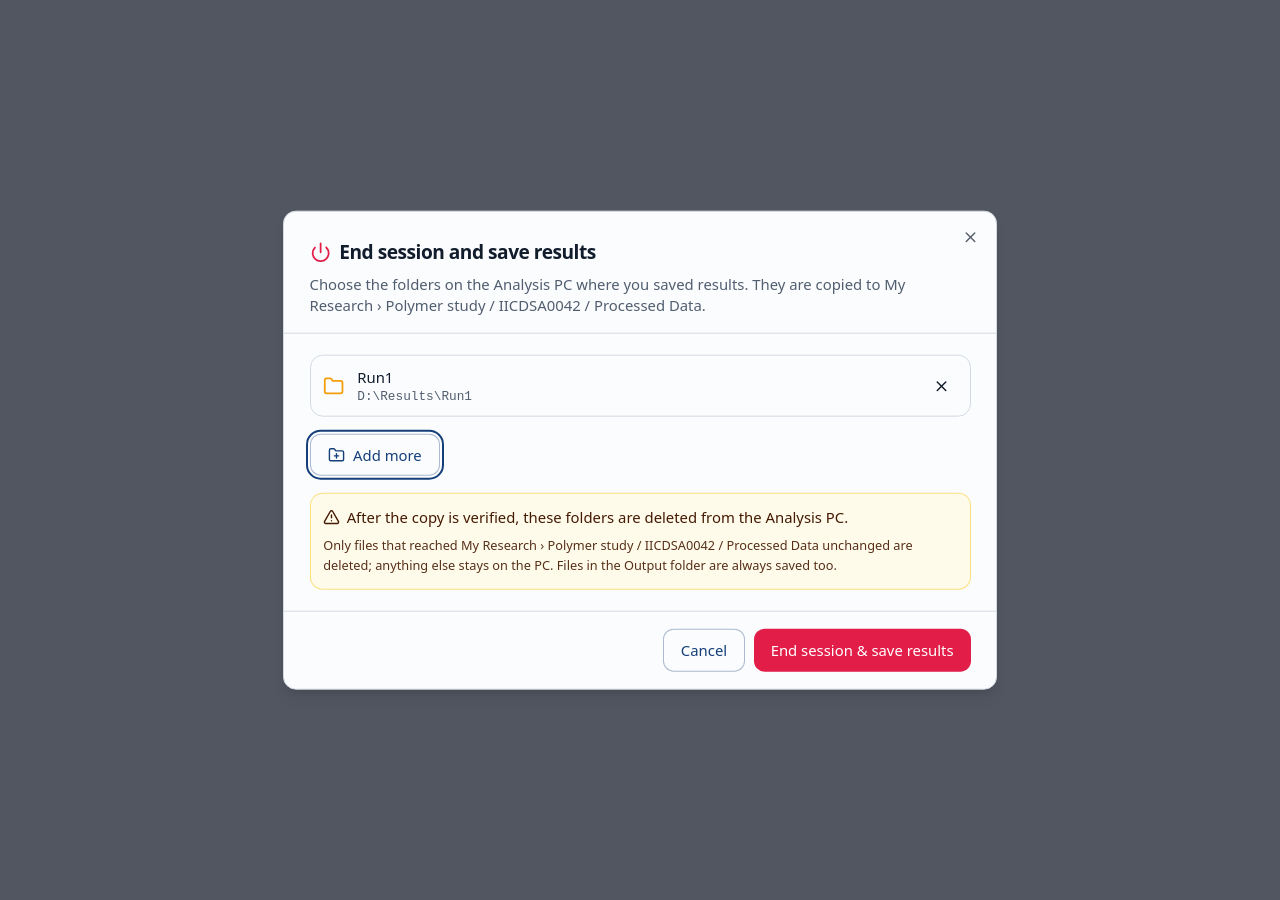
Test: EndSessionDialog › starts from folders chosen earlier and merges a chosen parent
Expected: the list with test id "chosen-folders" shows "D:\\Results\\Run1", [357,389,472,404]
Click the button "Add more". click: (375, 455)
box: [310,434,440,476]
Wait 1100 ms
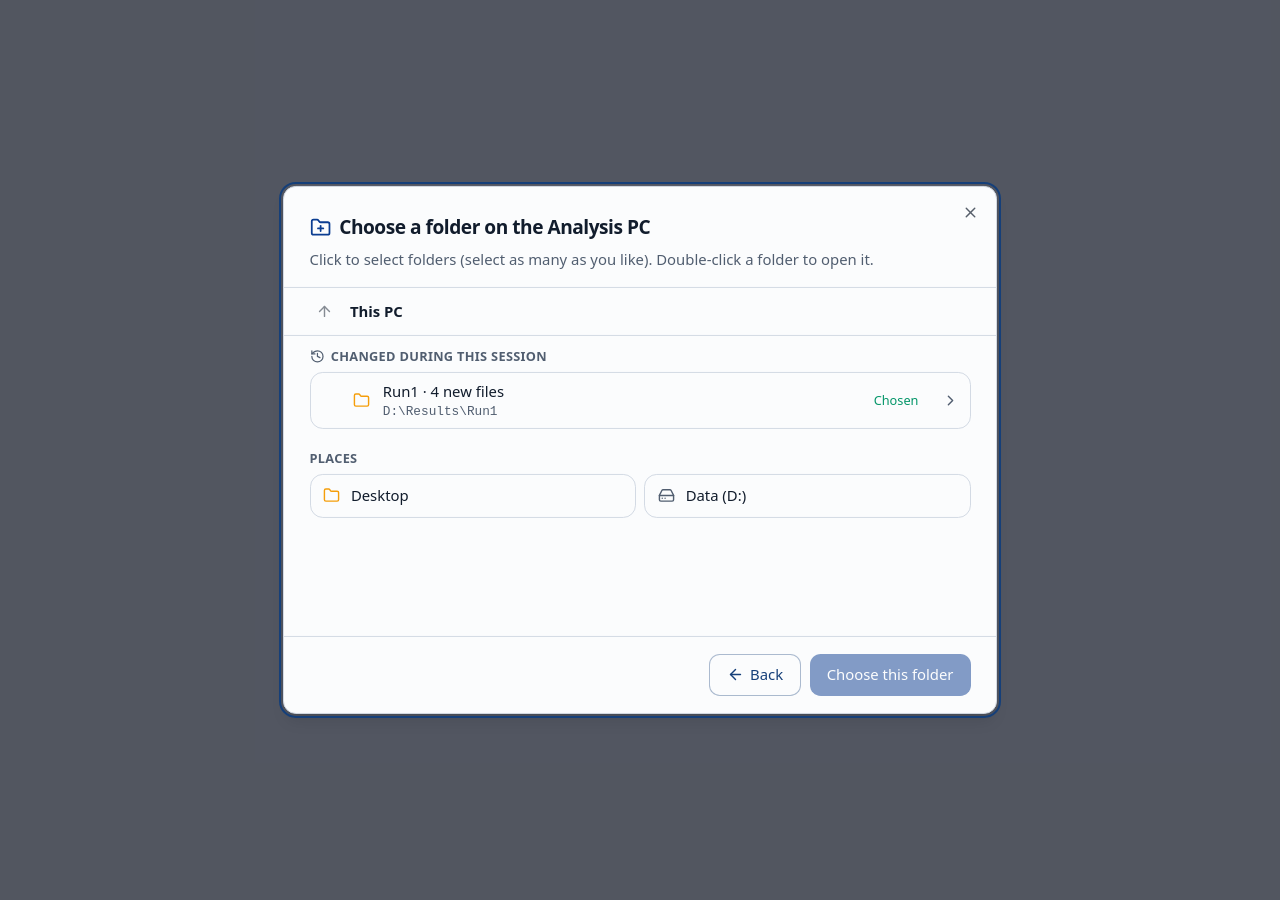
Result: the element with test id "folder-browser" shows "Places" at [310,449,358,467]
Click the button "Data (D:)". click: (716, 495)
box: [644,474,971,518]
Wait 1100 ms
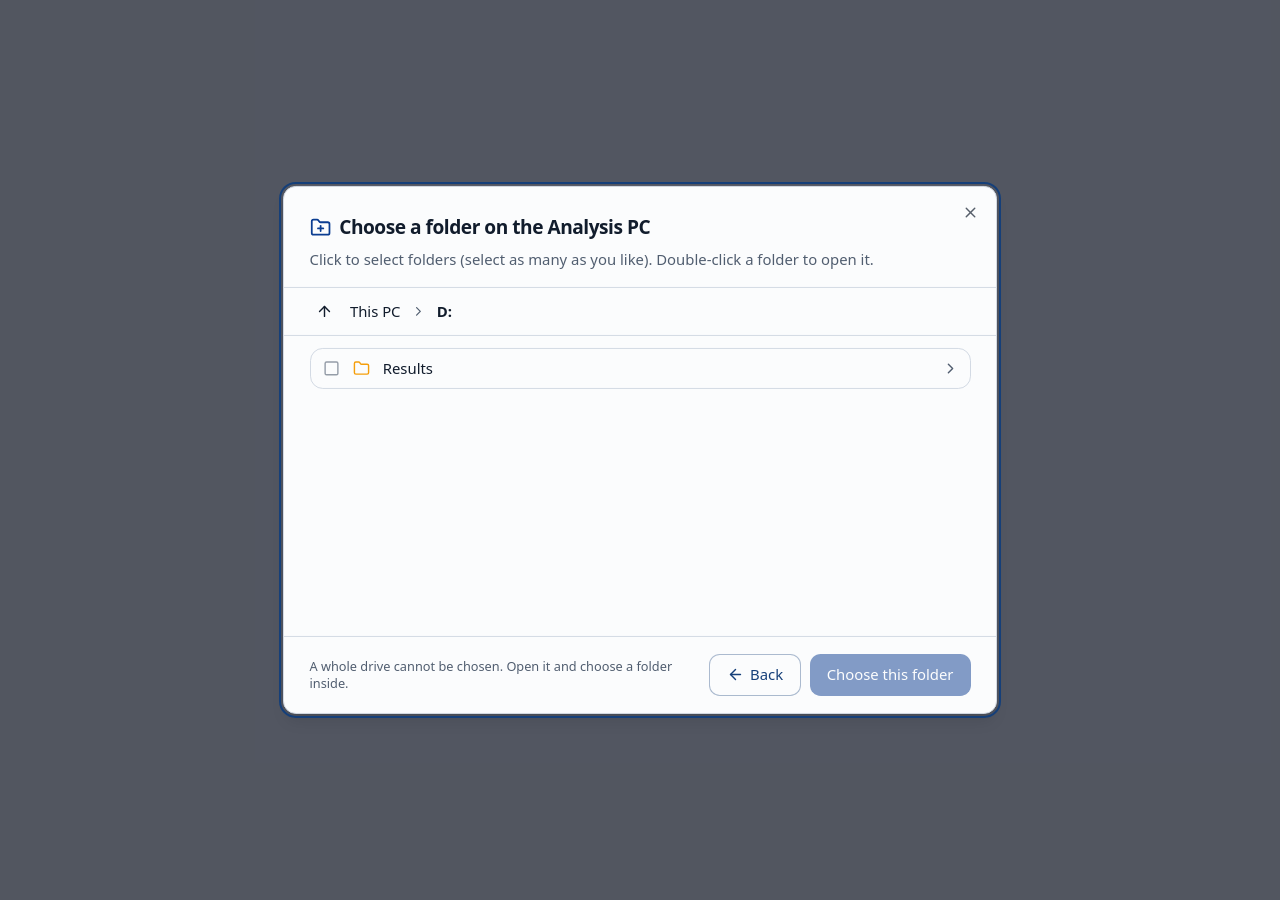
Result: the element with test id "folder-browser" reads "Results"
Double-click the option "Results" at (408, 368), box [310,349,931,388]
Wait 1100 ms
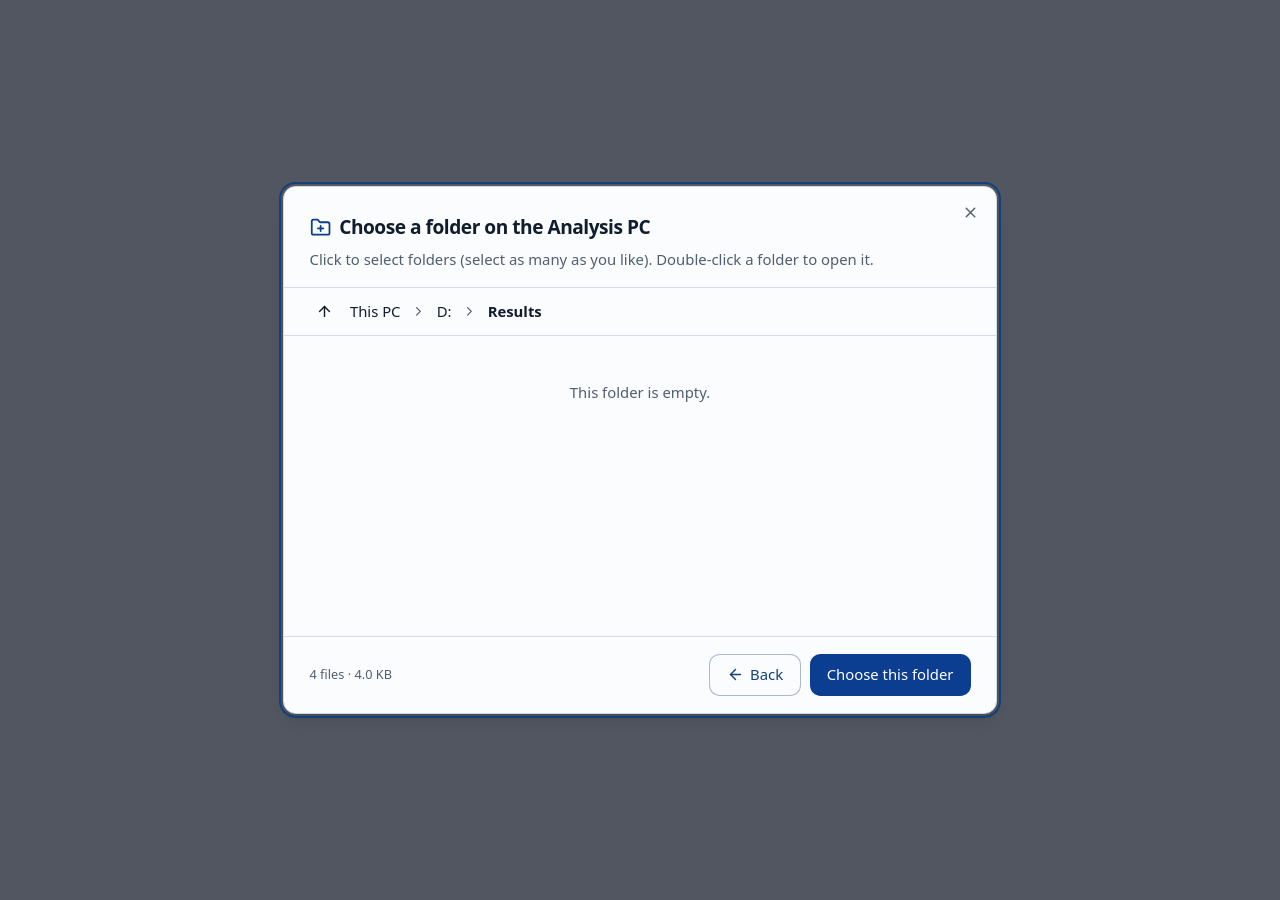
Result: the element with test id "folder-browser" shows "This folder is empty" at [570,382,710,402]
Click the button "Choose this folder". click: (890, 675)
box: [810,654,970,696]
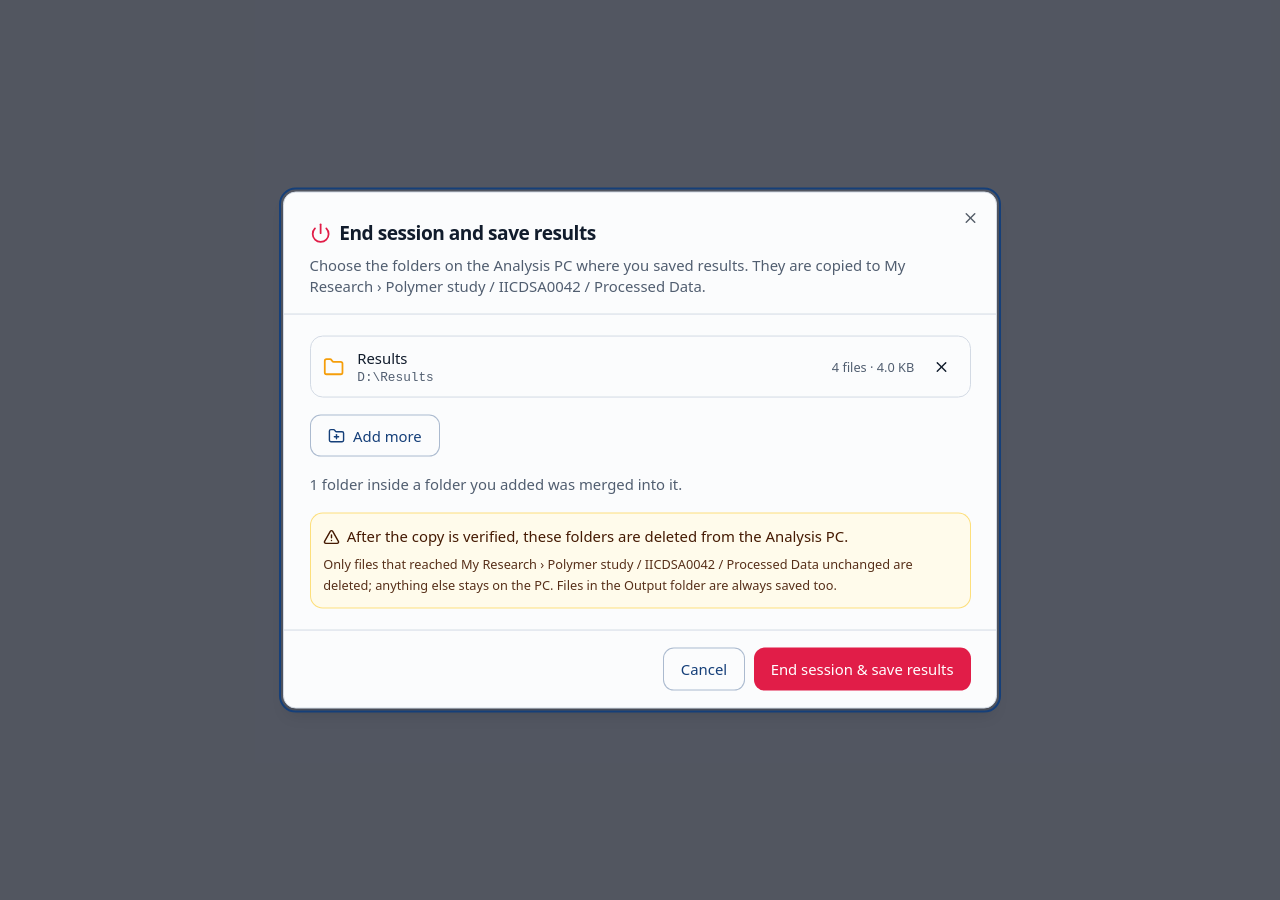
Result: the number of list items is 1 at [310,337,970,396]
Result: the list item "Results D:\\Results 4 files · 4.0 KB" shows "D:\\Results" at [357,370,434,385]
Result: the message shows "merged into it" at [310,474,682,494]
